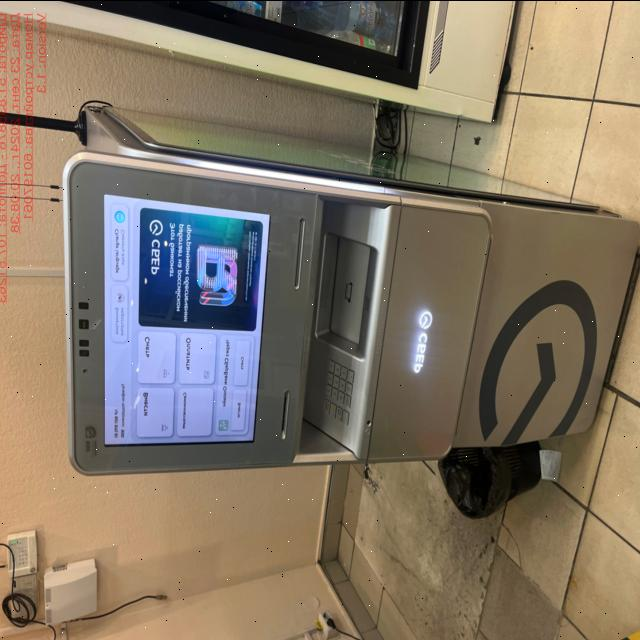bank: (60, 103, 638, 470)
